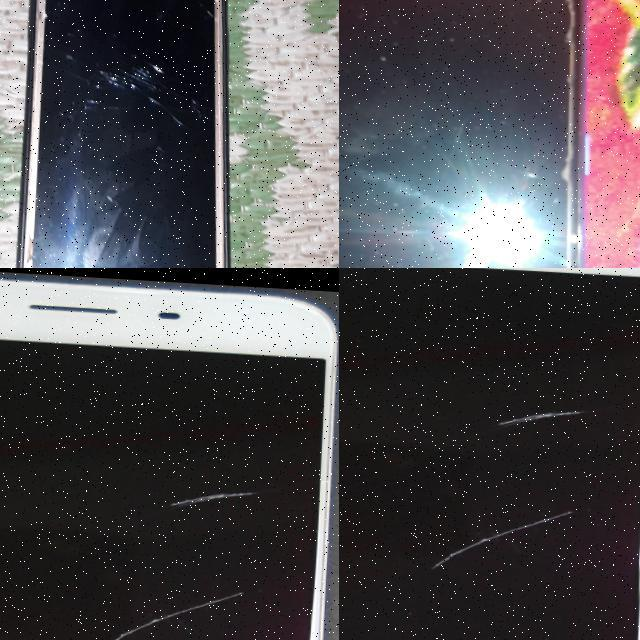scratch: (89, 35, 217, 141), (429, 496, 579, 578), (102, 579, 249, 640), (489, 398, 588, 427), (172, 479, 258, 507)
screen crack: (18, 206, 60, 268)
